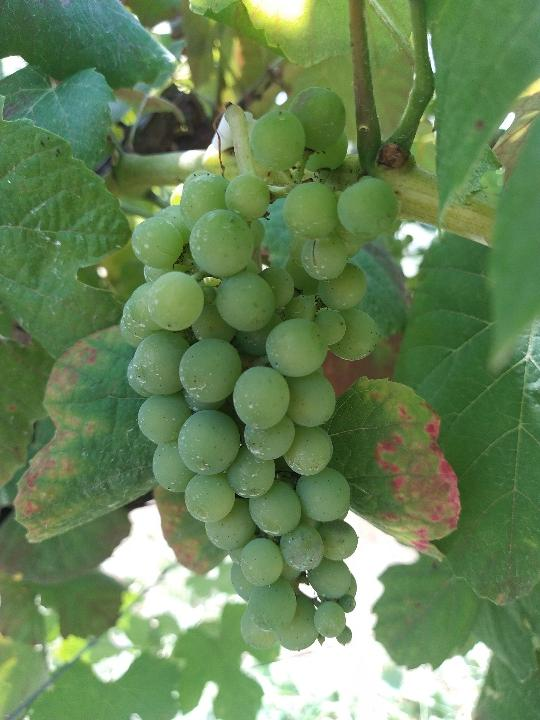grape: (117, 83, 403, 660)
